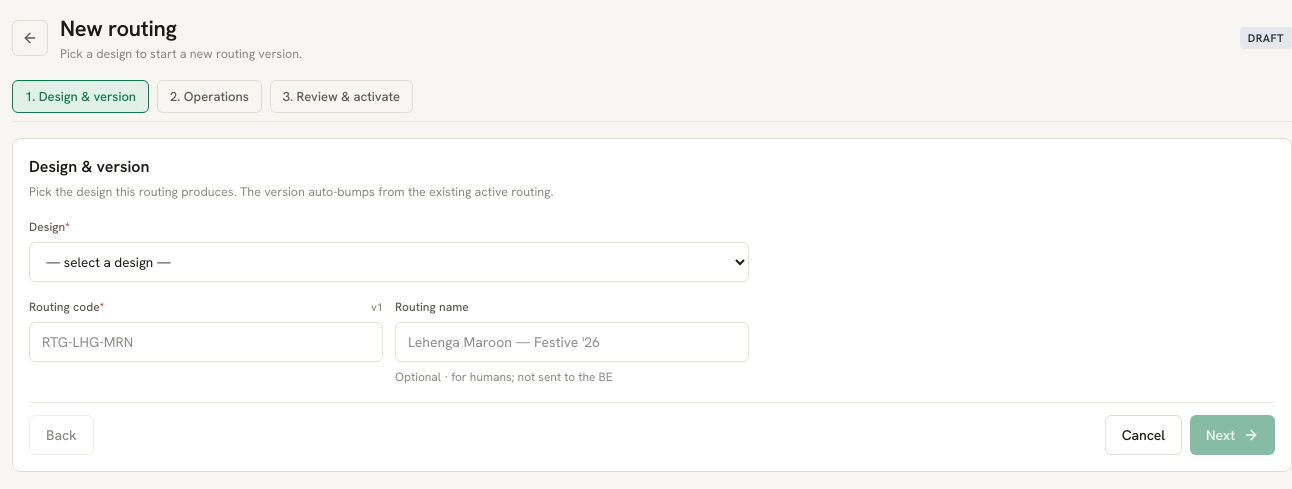
Test: RoutingCreateWizard — chrome › picking a design surfaces v1 in the header chrome
Expected: the tab "1. Design & version" is shown, [12, 80, 149, 113]
Select "DSN-LHG-MRN — Lehenga Maroon" in the dropdown labelled "Design*" at (389, 262), box [29, 242, 749, 282]
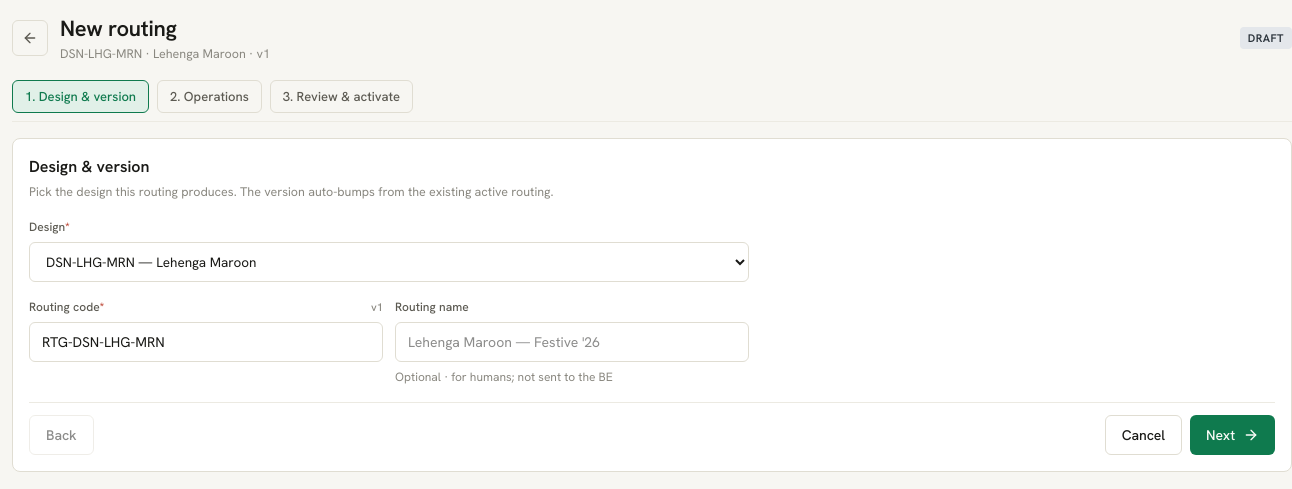
Expected: the text "DSN-LHG-MRN · Lehenga Maroon · v1" is shown, [60, 45, 270, 62]
